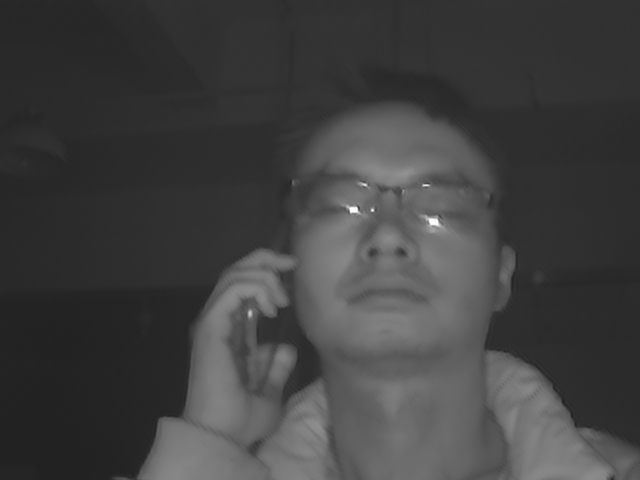hand: (181, 244, 303, 448)
